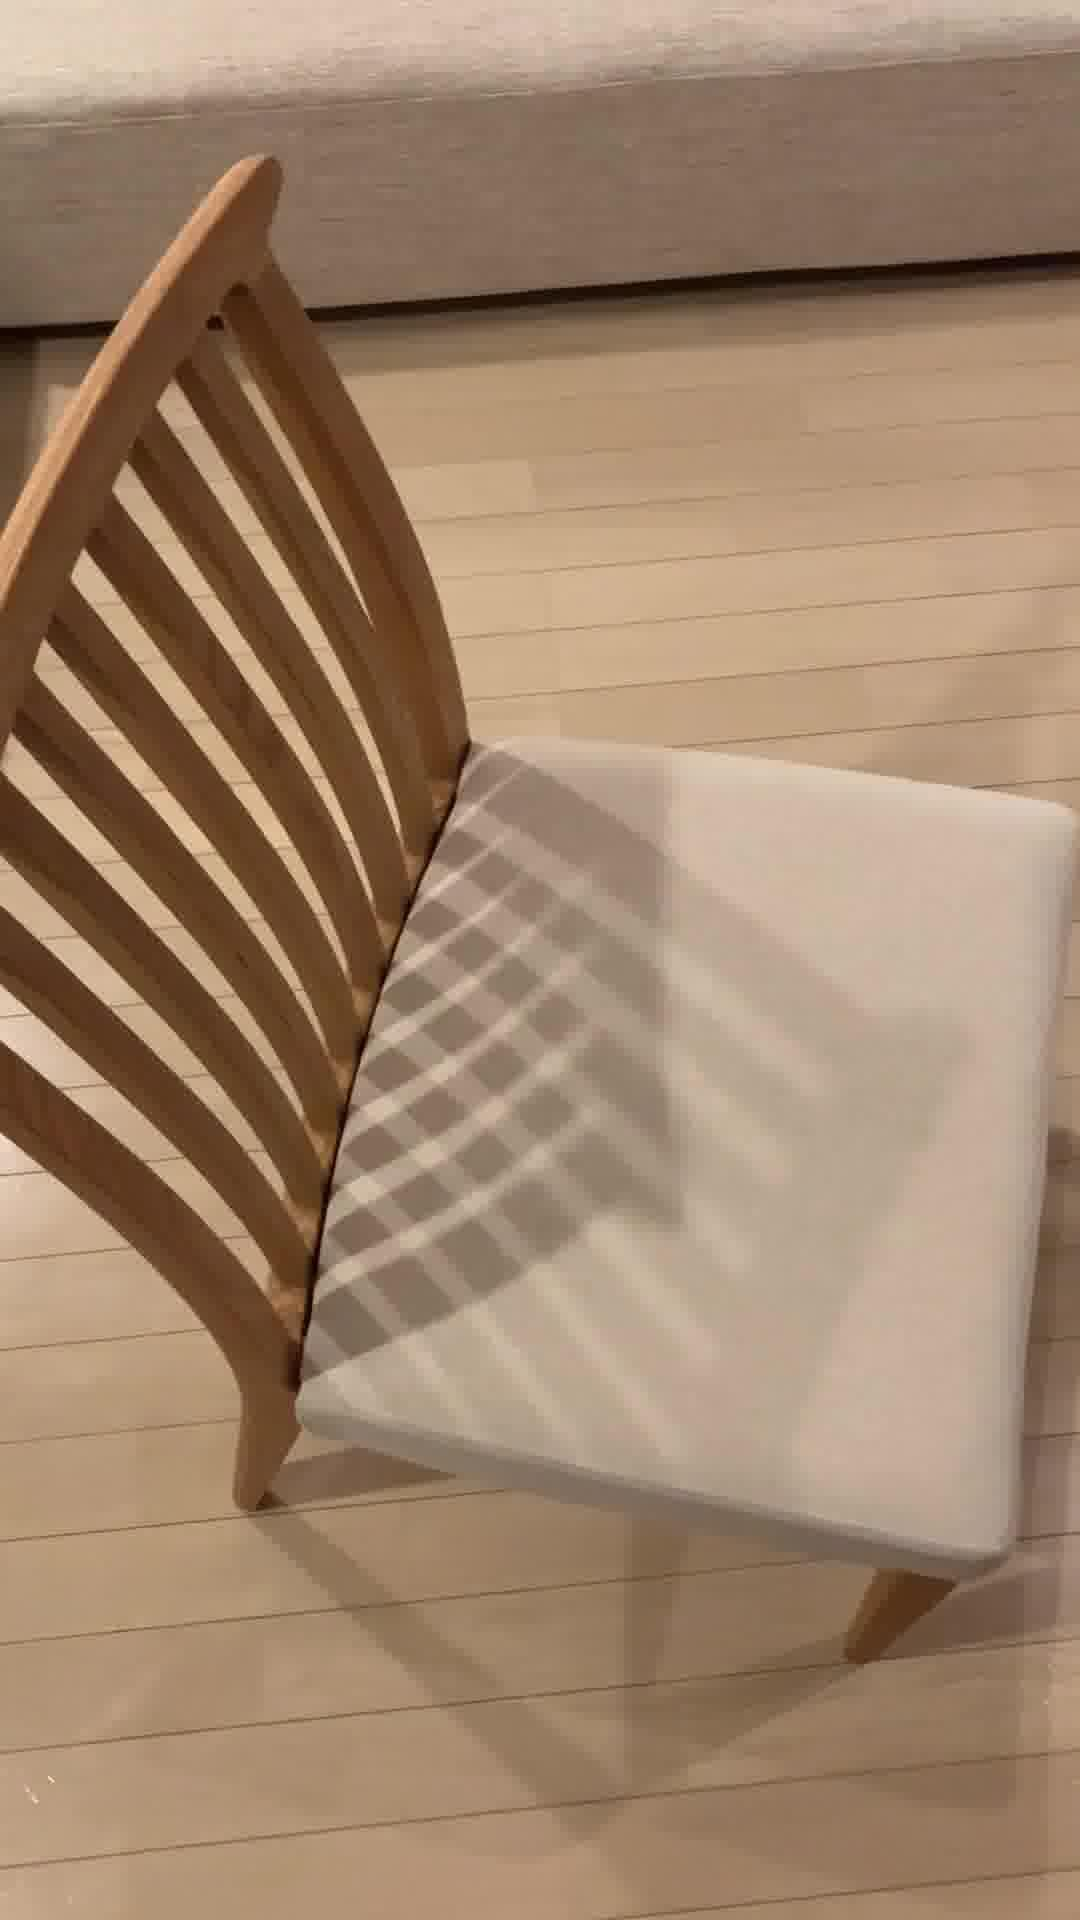takumikan-chair: (0, 150, 1080, 1673)
